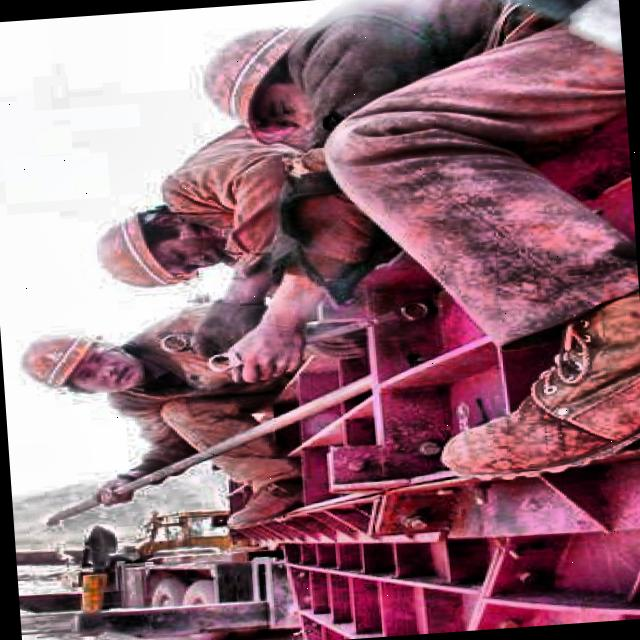helmet: (196, 11, 360, 150), (80, 198, 240, 298), (18, 324, 162, 414)
